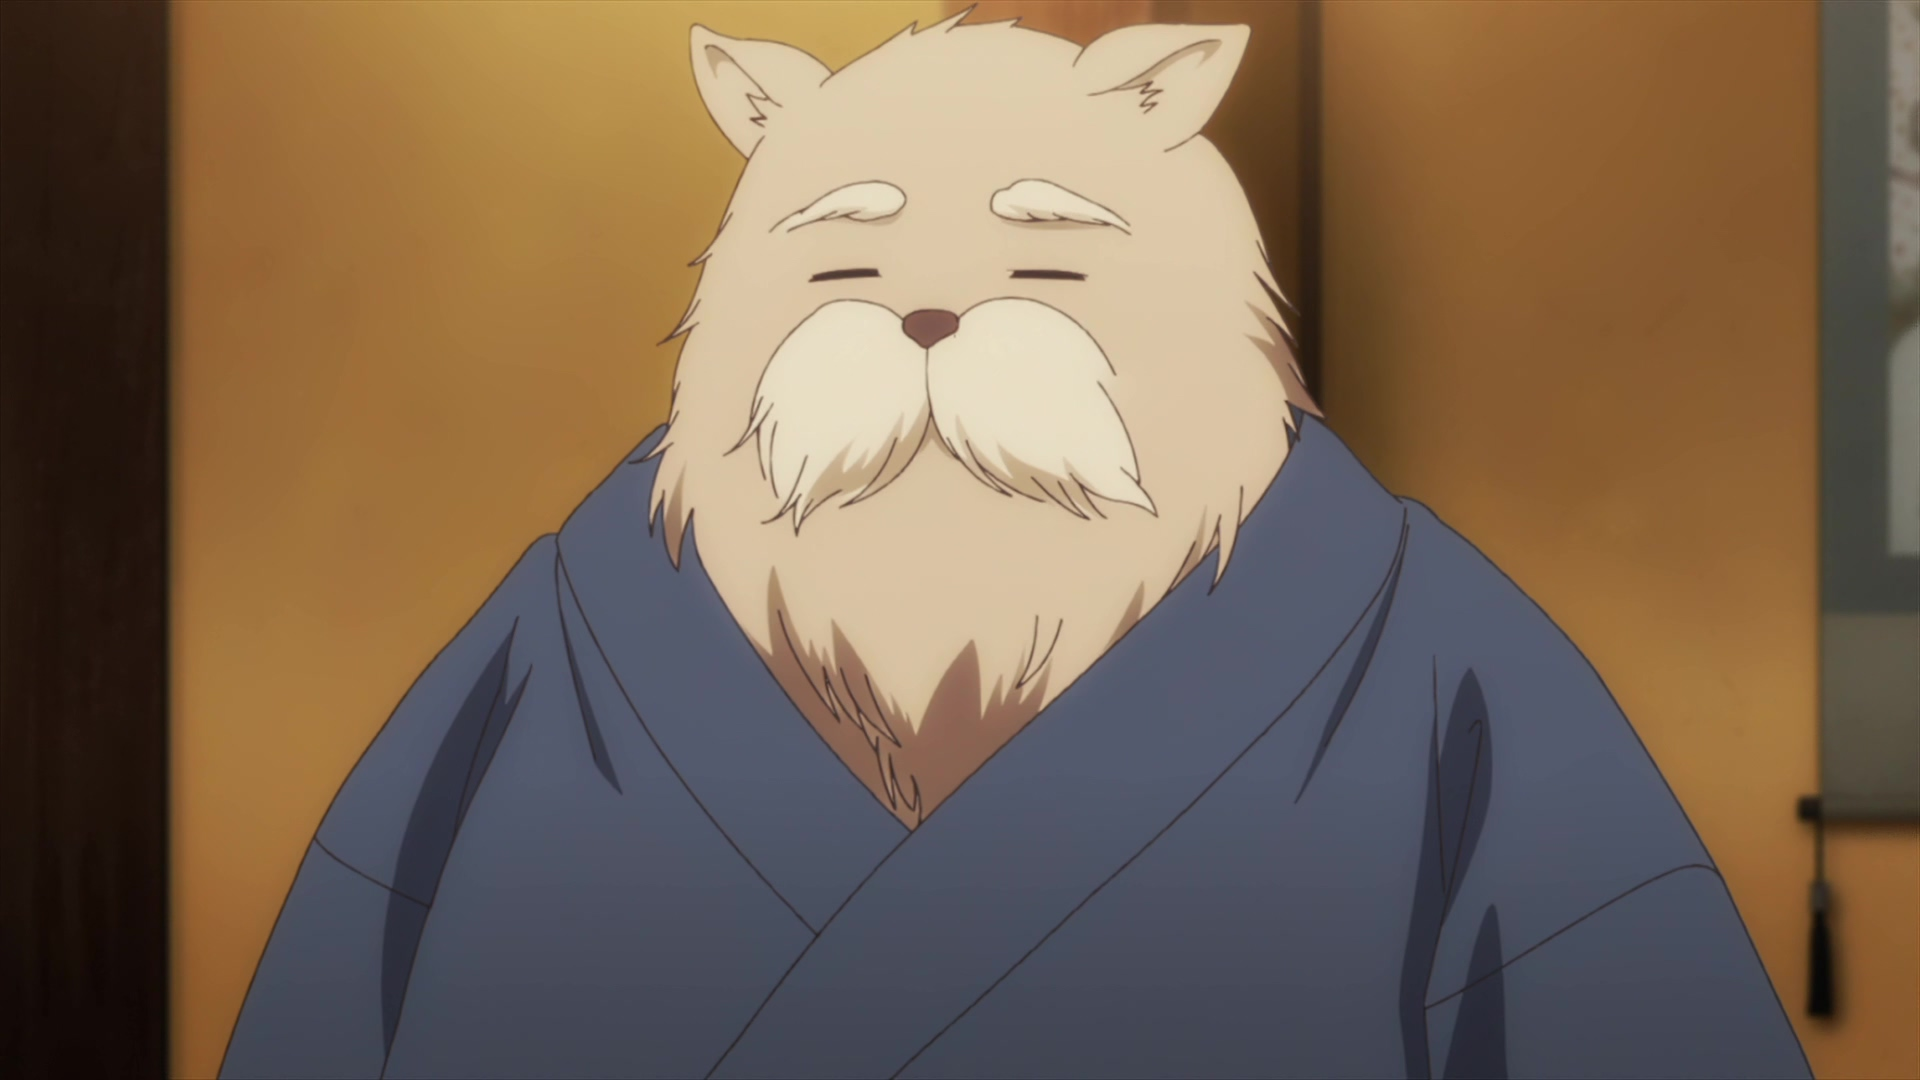药店老板: (214, 1, 1815, 1080)
